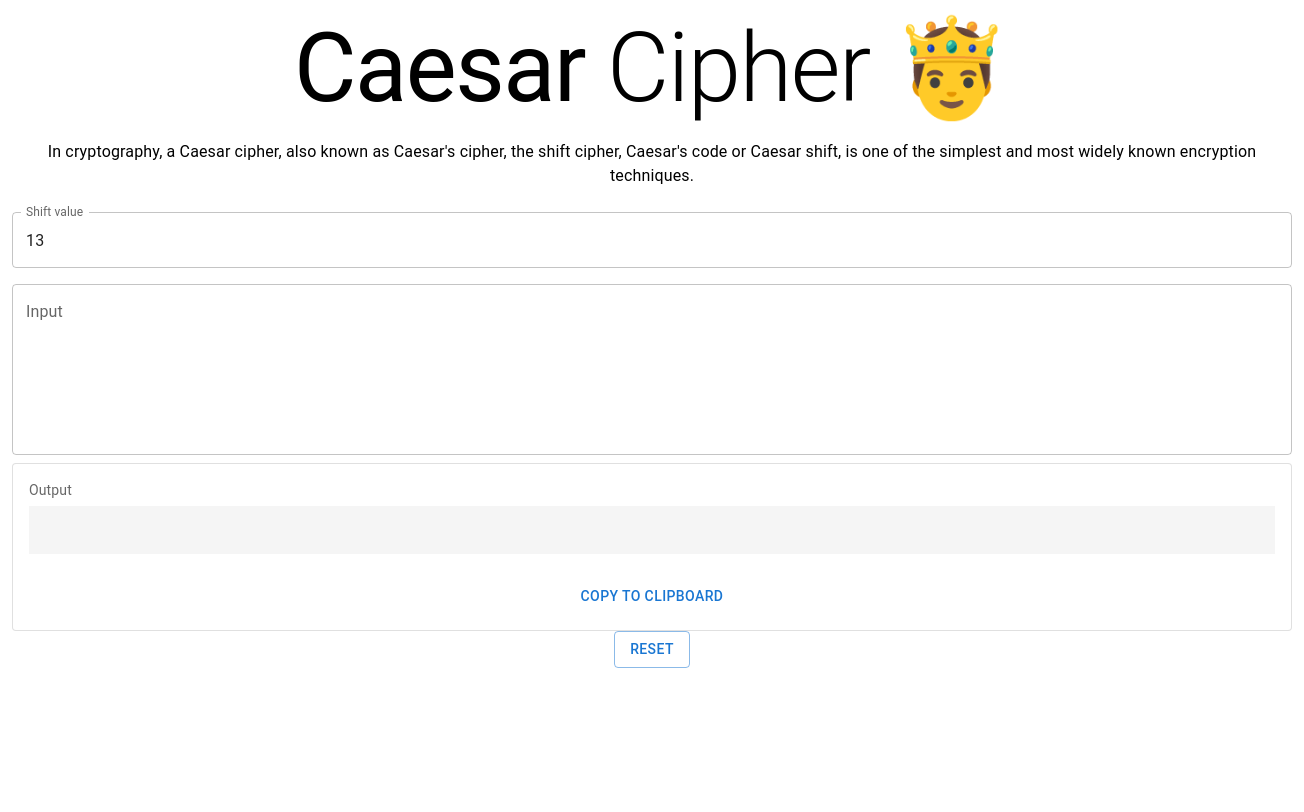
it: <CaesarCipher/> › should change the 'Shift value' to '0' if user clears the input field and leaves it
The width and height of the screenshot is (1304, 812).
Clear the field labelled "Shift value" at (652, 240), box [12,212,1292,268]
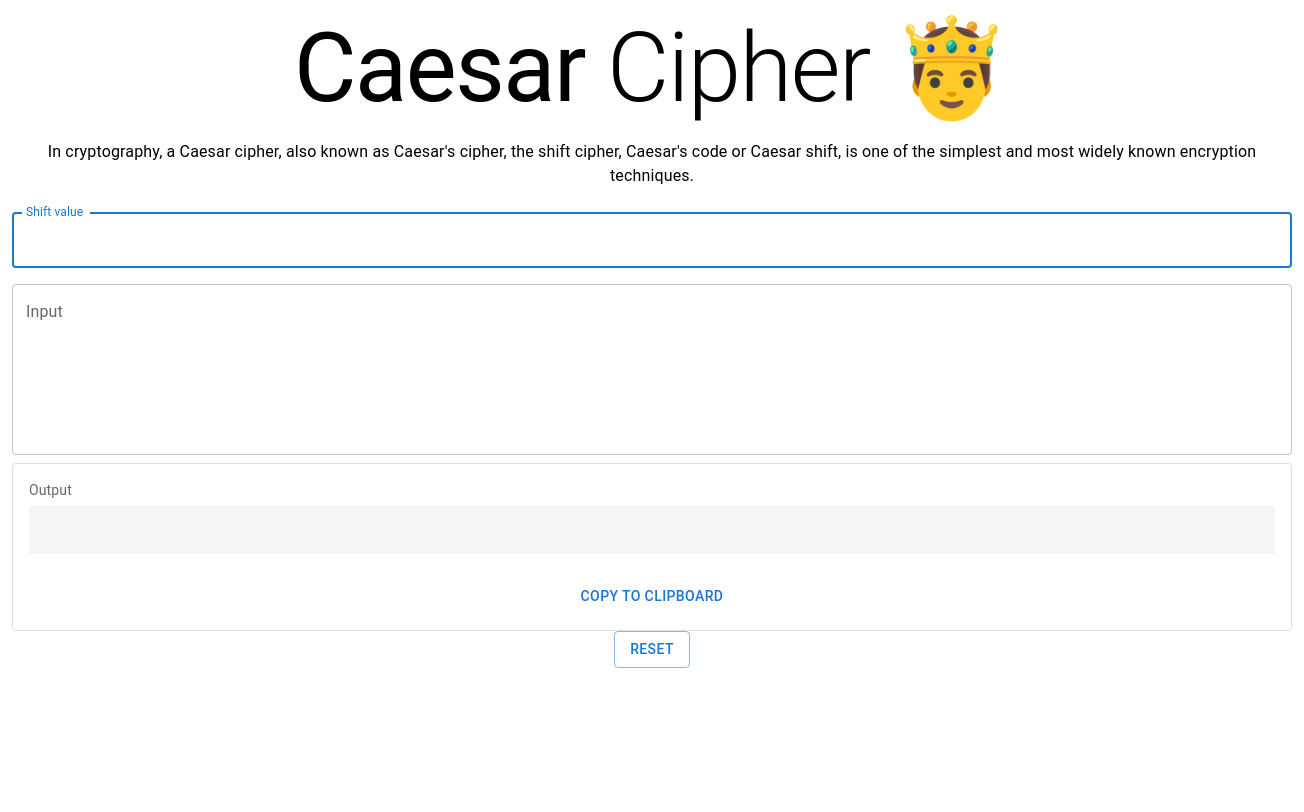
Press Tab
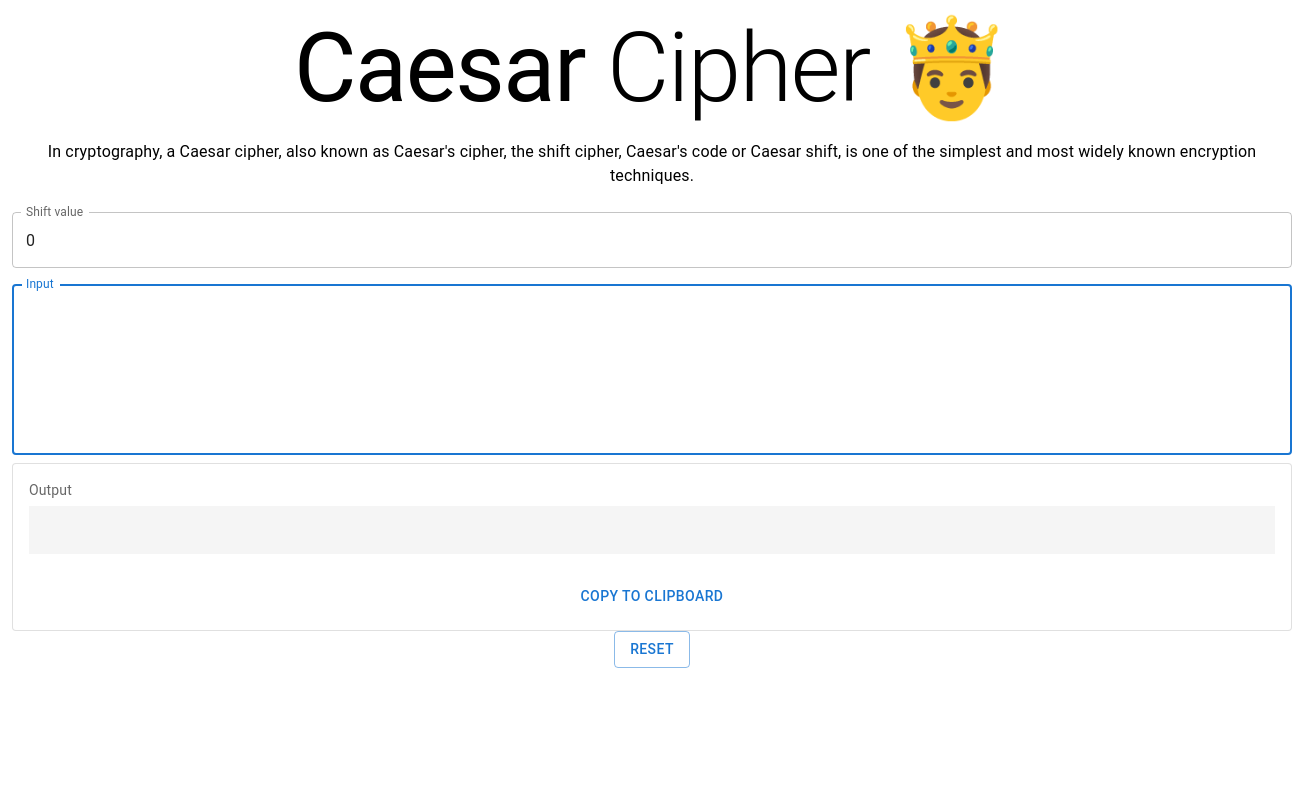
Check: the field labelled "Shift value" holds "0", box [12,212,1292,268]
